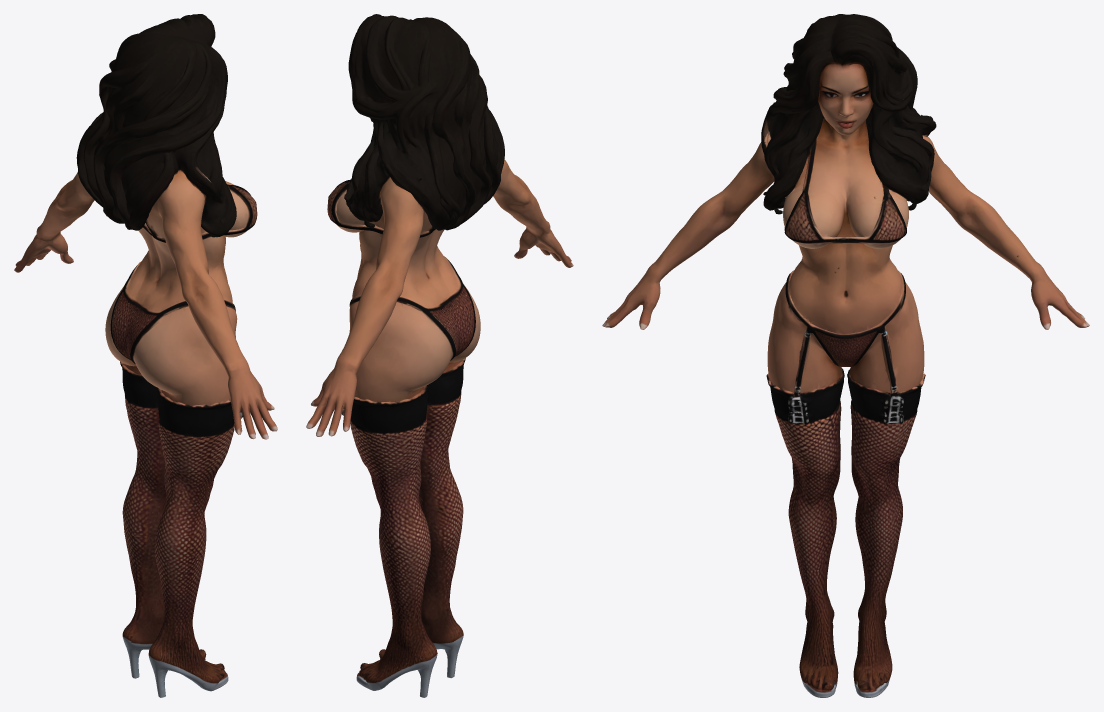
3 views of the same model, side by side, from view 1: azimuth 30°, elevation 25°; view 2: azimuth 150°, elevation 25°; view 3: azimuth 270°, elevation 25° (orthographic).
Parts seen in each view (by area): view 1: Object_2; view 2: Object_2; view 3: Object_2.
Part boxes in pixels (bbox=[...]): Object_2: bbox=[14, 14, 277, 697]; Object_2: bbox=[306, 14, 573, 697]; Object_2: bbox=[602, 14, 1089, 697].
Bounding box in the file's own units: 0.2246 × 1 × 0.6709.
1 material, 1 textured.
